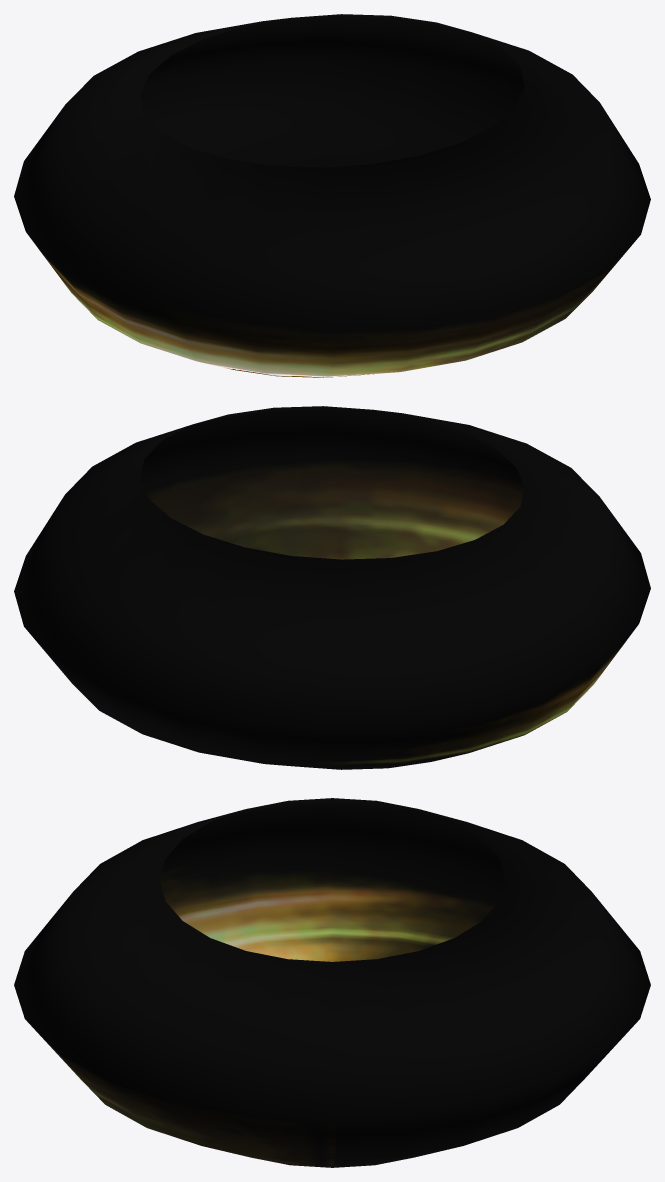
The model's file is fx_fbx_cj_zc_csz02.FBX.
The picture shows the model from 3 angles, top to bottom: view 1: azimuth 30°, elevation 25°; view 2: azimuth 150°, elevation 25°; view 3: azimuth 270°, elevation 25°; orthographic projection.
Visible parts, largest first — view 1: Torus001; view 2: Torus001; view 3: Torus001.
Boxes of the visible parts, <box> form: Torus001: <box>14,14,650,377</box>; Torus001: <box>14,406,650,769</box>; Torus001: <box>14,798,650,1167</box>.
Bounding box in the file's own units: 55 × 56.41 × 20.52.
1 material, 1 textured.
